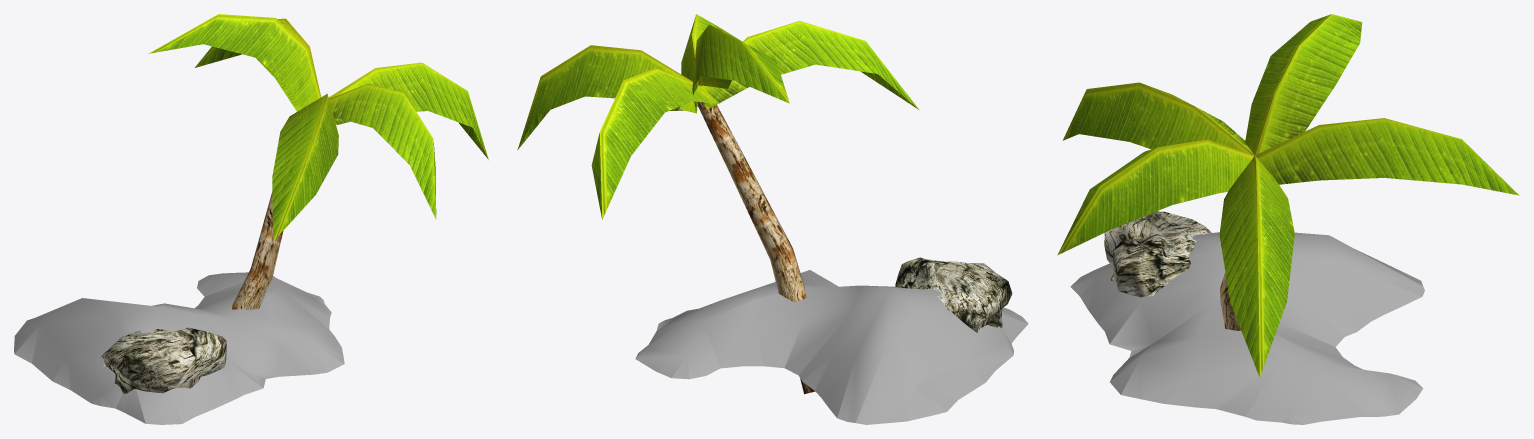
File: island_03_.fbx
3 renders of one model, left to right at view 1: azimuth 30°, elevation 25°; view 2: azimuth 150°, elevation 25°; view 3: azimuth 270°, elevation 25°, orthographic. The views are drawn at different scales.
Parts seen in each view (by area): view 1: island_03; view 2: island_03; view 3: island_03.
Part boxes in pixels (bbox=[...]): island_03: bbox=[14, 14, 488, 424]; island_03: bbox=[517, 14, 1028, 424]; island_03: bbox=[1057, 14, 1519, 424].
Bounding box in the file's own units: 9.59 × 7.18 × 7.22.
